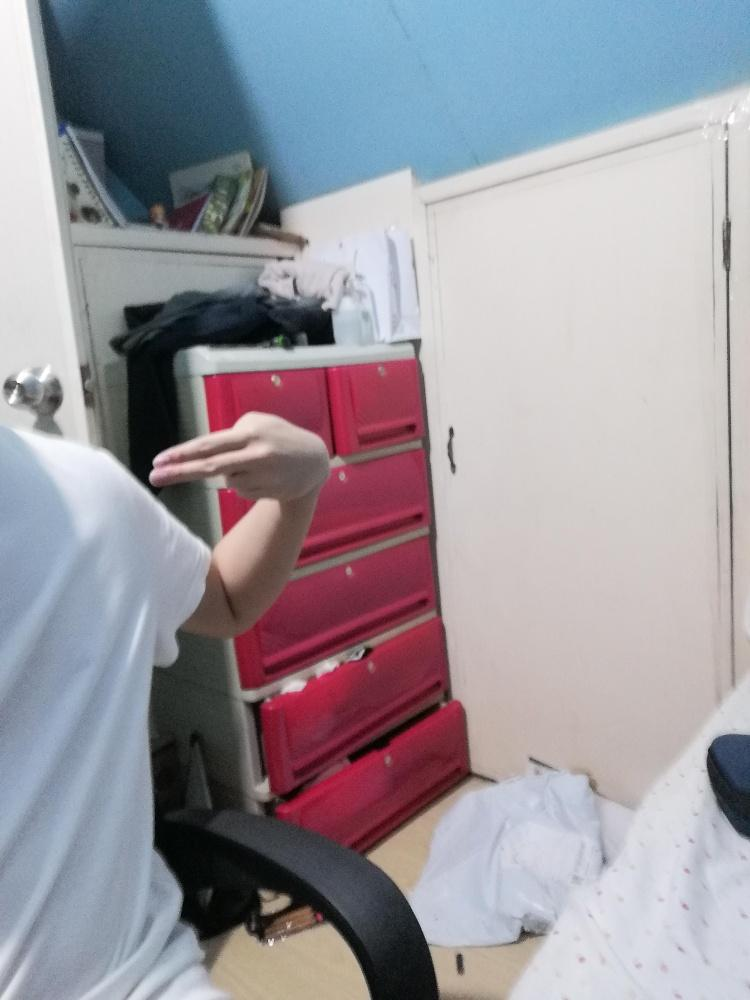h: (146, 408, 328, 501)
